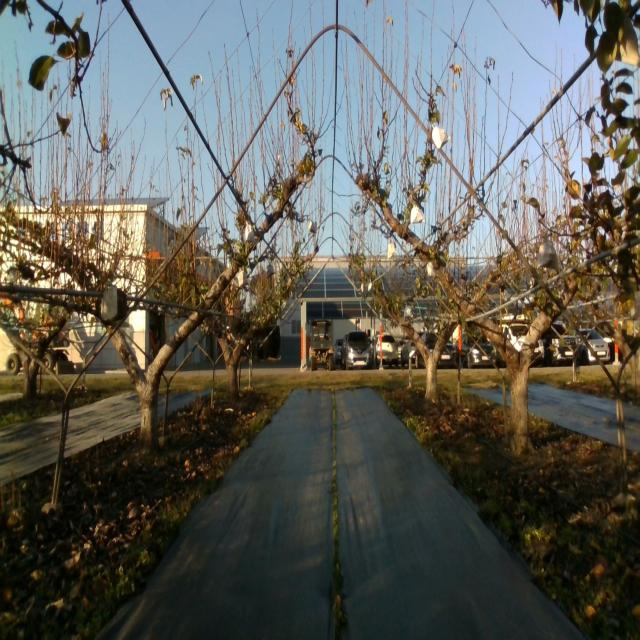pearbags: (614, 14, 640, 65), (538, 240, 560, 271), (432, 125, 451, 152), (410, 204, 426, 223), (243, 222, 254, 244)
